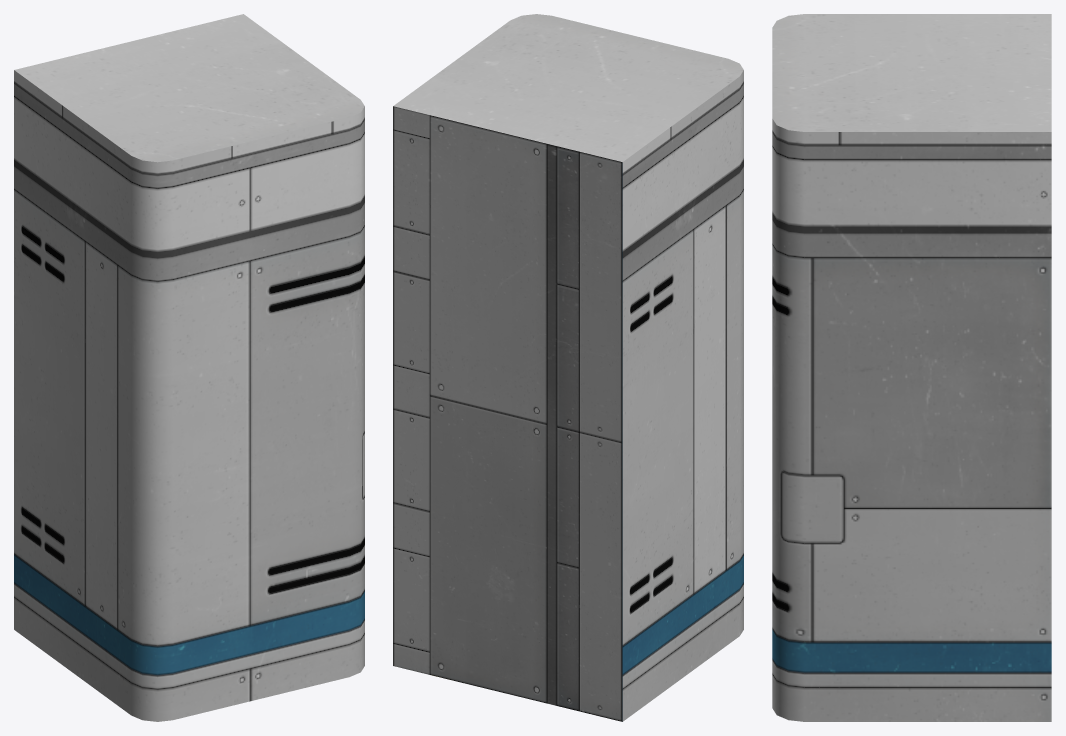
The model's file is Rounded_Angle_02.FBX.
The picture shows the model from 3 angles, left to right: view 1: azimuth 30°, elevation 25°; view 2: azimuth 150°, elevation 25°; view 3: azimuth 270°, elevation 25°; orthographic projection. The views are drawn at different scales.
Parts seen in each view (by area): view 1: Rounded_Angle_02; view 2: Rounded_Angle_02; view 3: Rounded_Angle_02.
Boxes of the visible parts, x1=… form: Rounded_Angle_02: x1=14, y1=14, x2=364, y2=721; Rounded_Angle_02: x1=393, y1=14, x2=743, y2=721; Rounded_Angle_02: x1=772, y1=14, x2=1051, y2=721.
Bounding box in the file's own units: 60.09 × 140 × 60.06.
